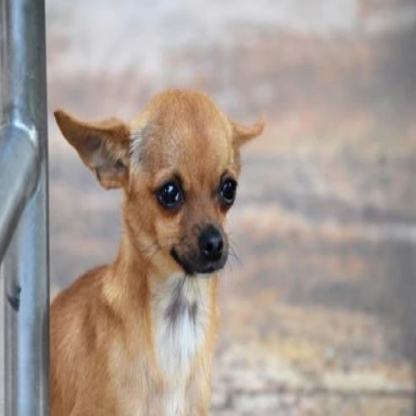chihuahua: (51, 87, 267, 416)
